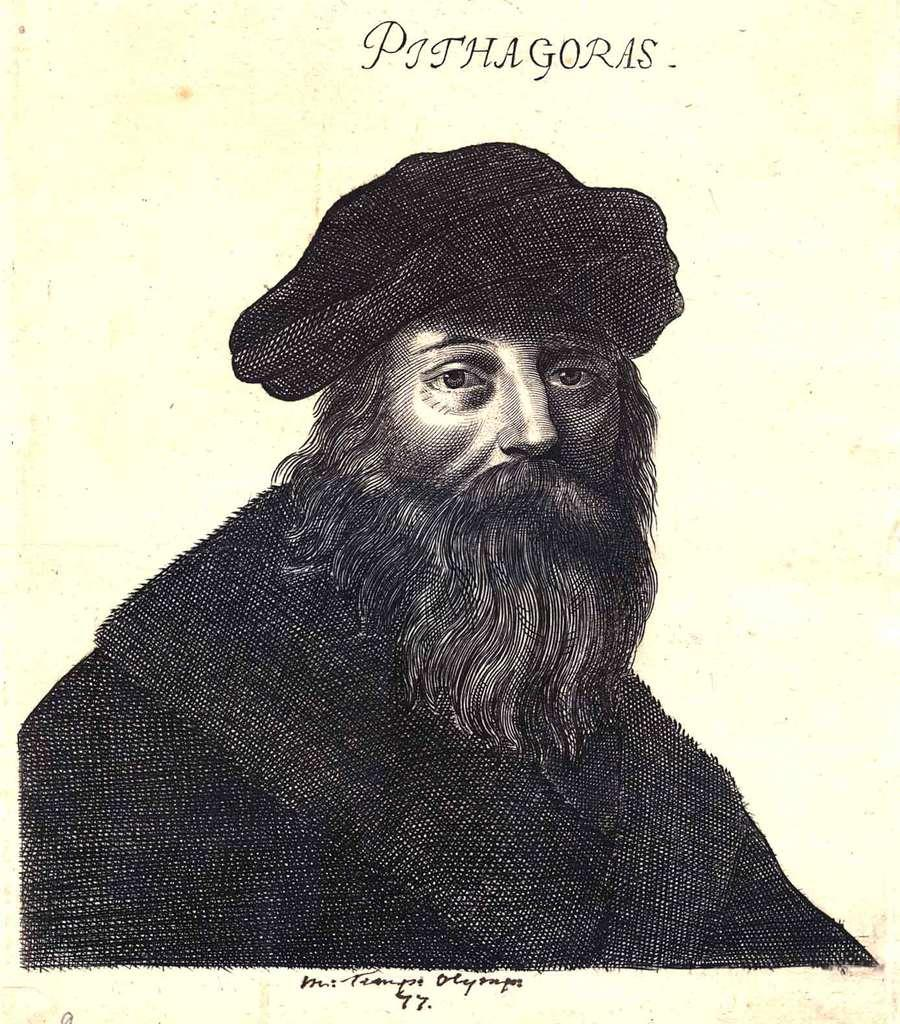Hat: (221, 133, 702, 394)
